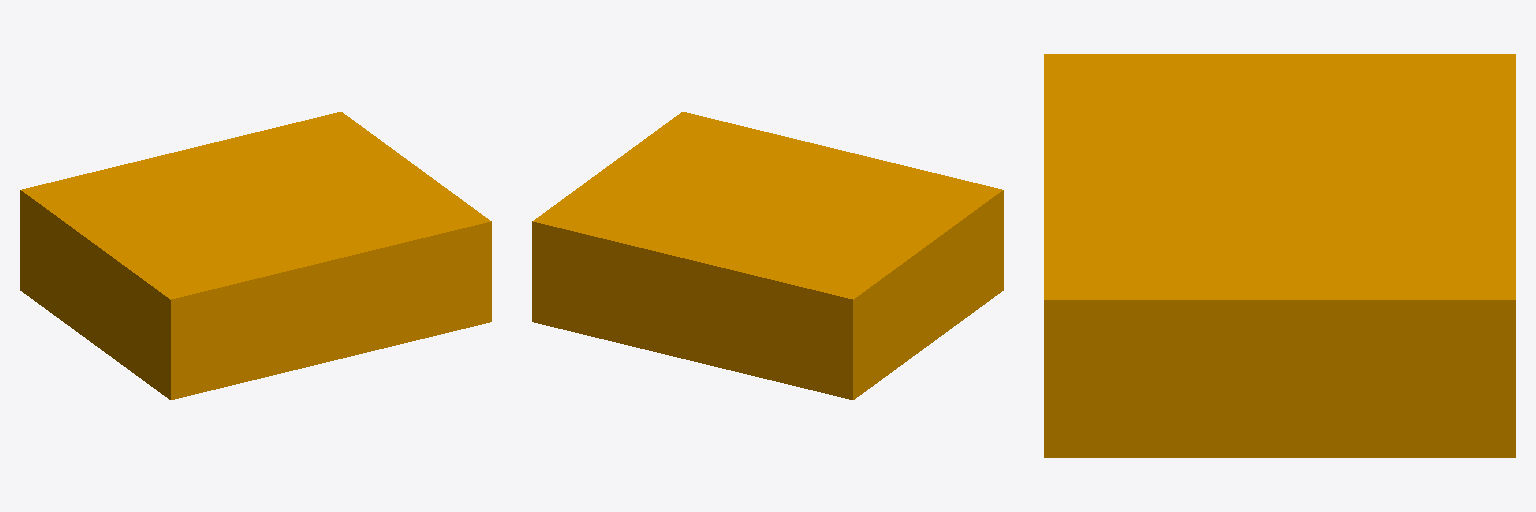
URDF robot description (table_real_bench):
<?xml version="1.0"?>
<!-- Real lab bench (tape-measured 2026-08-17, HANDOVER_V3_RETRAIN.md section 1):
     0.81 m x 1.00 m footprint, the 1.00 m edge along the robot-base side (x axis
     in the trained -y-workspace convention). Box height 0.30 like table_narrow so
     the existing "table top = tableResetZ + 0.15" convention holds everywhere:
     tableResetZ 0.034 -> top at the measured 0.184 m above the base plane
     (the box bottom sits below the ground plane; static body, harmless). -->
<robot name="table_real_bench">
  <link name="table">
    <visual>
      <origin xyz="0 0 0" rpy="0 0 0"/>
      <geometry>
        <box size="1.00 0.81 0.3"/>
      </geometry>
    </visual>
    <collision>
      <origin xyz="0 0 0" rpy="0 0 0"/>
      <geometry>
        <box size="1.00 0.81 0.3"/>
      </geometry>
    </collision>
  </link>
</robot>

--- Render facts (derived) ---
3 views of the same robot in one strip: view 1: azimuth 30°, elevation 25°; view 2: azimuth 150°, elevation 25°; view 3: azimuth 270°, elevation 25° (orthographic).
Model table_real_bench with 1 links and 0 joints (none), rooted at table, posed all joints at 0.
Visible links, largest first — view 1: table; view 2: table; view 3: table.
Link boxes in pixels (bbox=[...]): table: bbox=[20, 112, 491, 399]; table: bbox=[532, 112, 1003, 399]; table: bbox=[1044, 54, 1515, 457].
Bounding box of the posed robot: 1 × 0.81 × 0.3 m (x, y, z).
Geometry: primitives only (box / cylinder / sphere), no mesh files.
